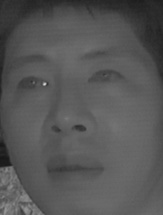eye: (85, 66, 125, 90), (13, 75, 54, 96)
mouth: (42, 147, 104, 189)
